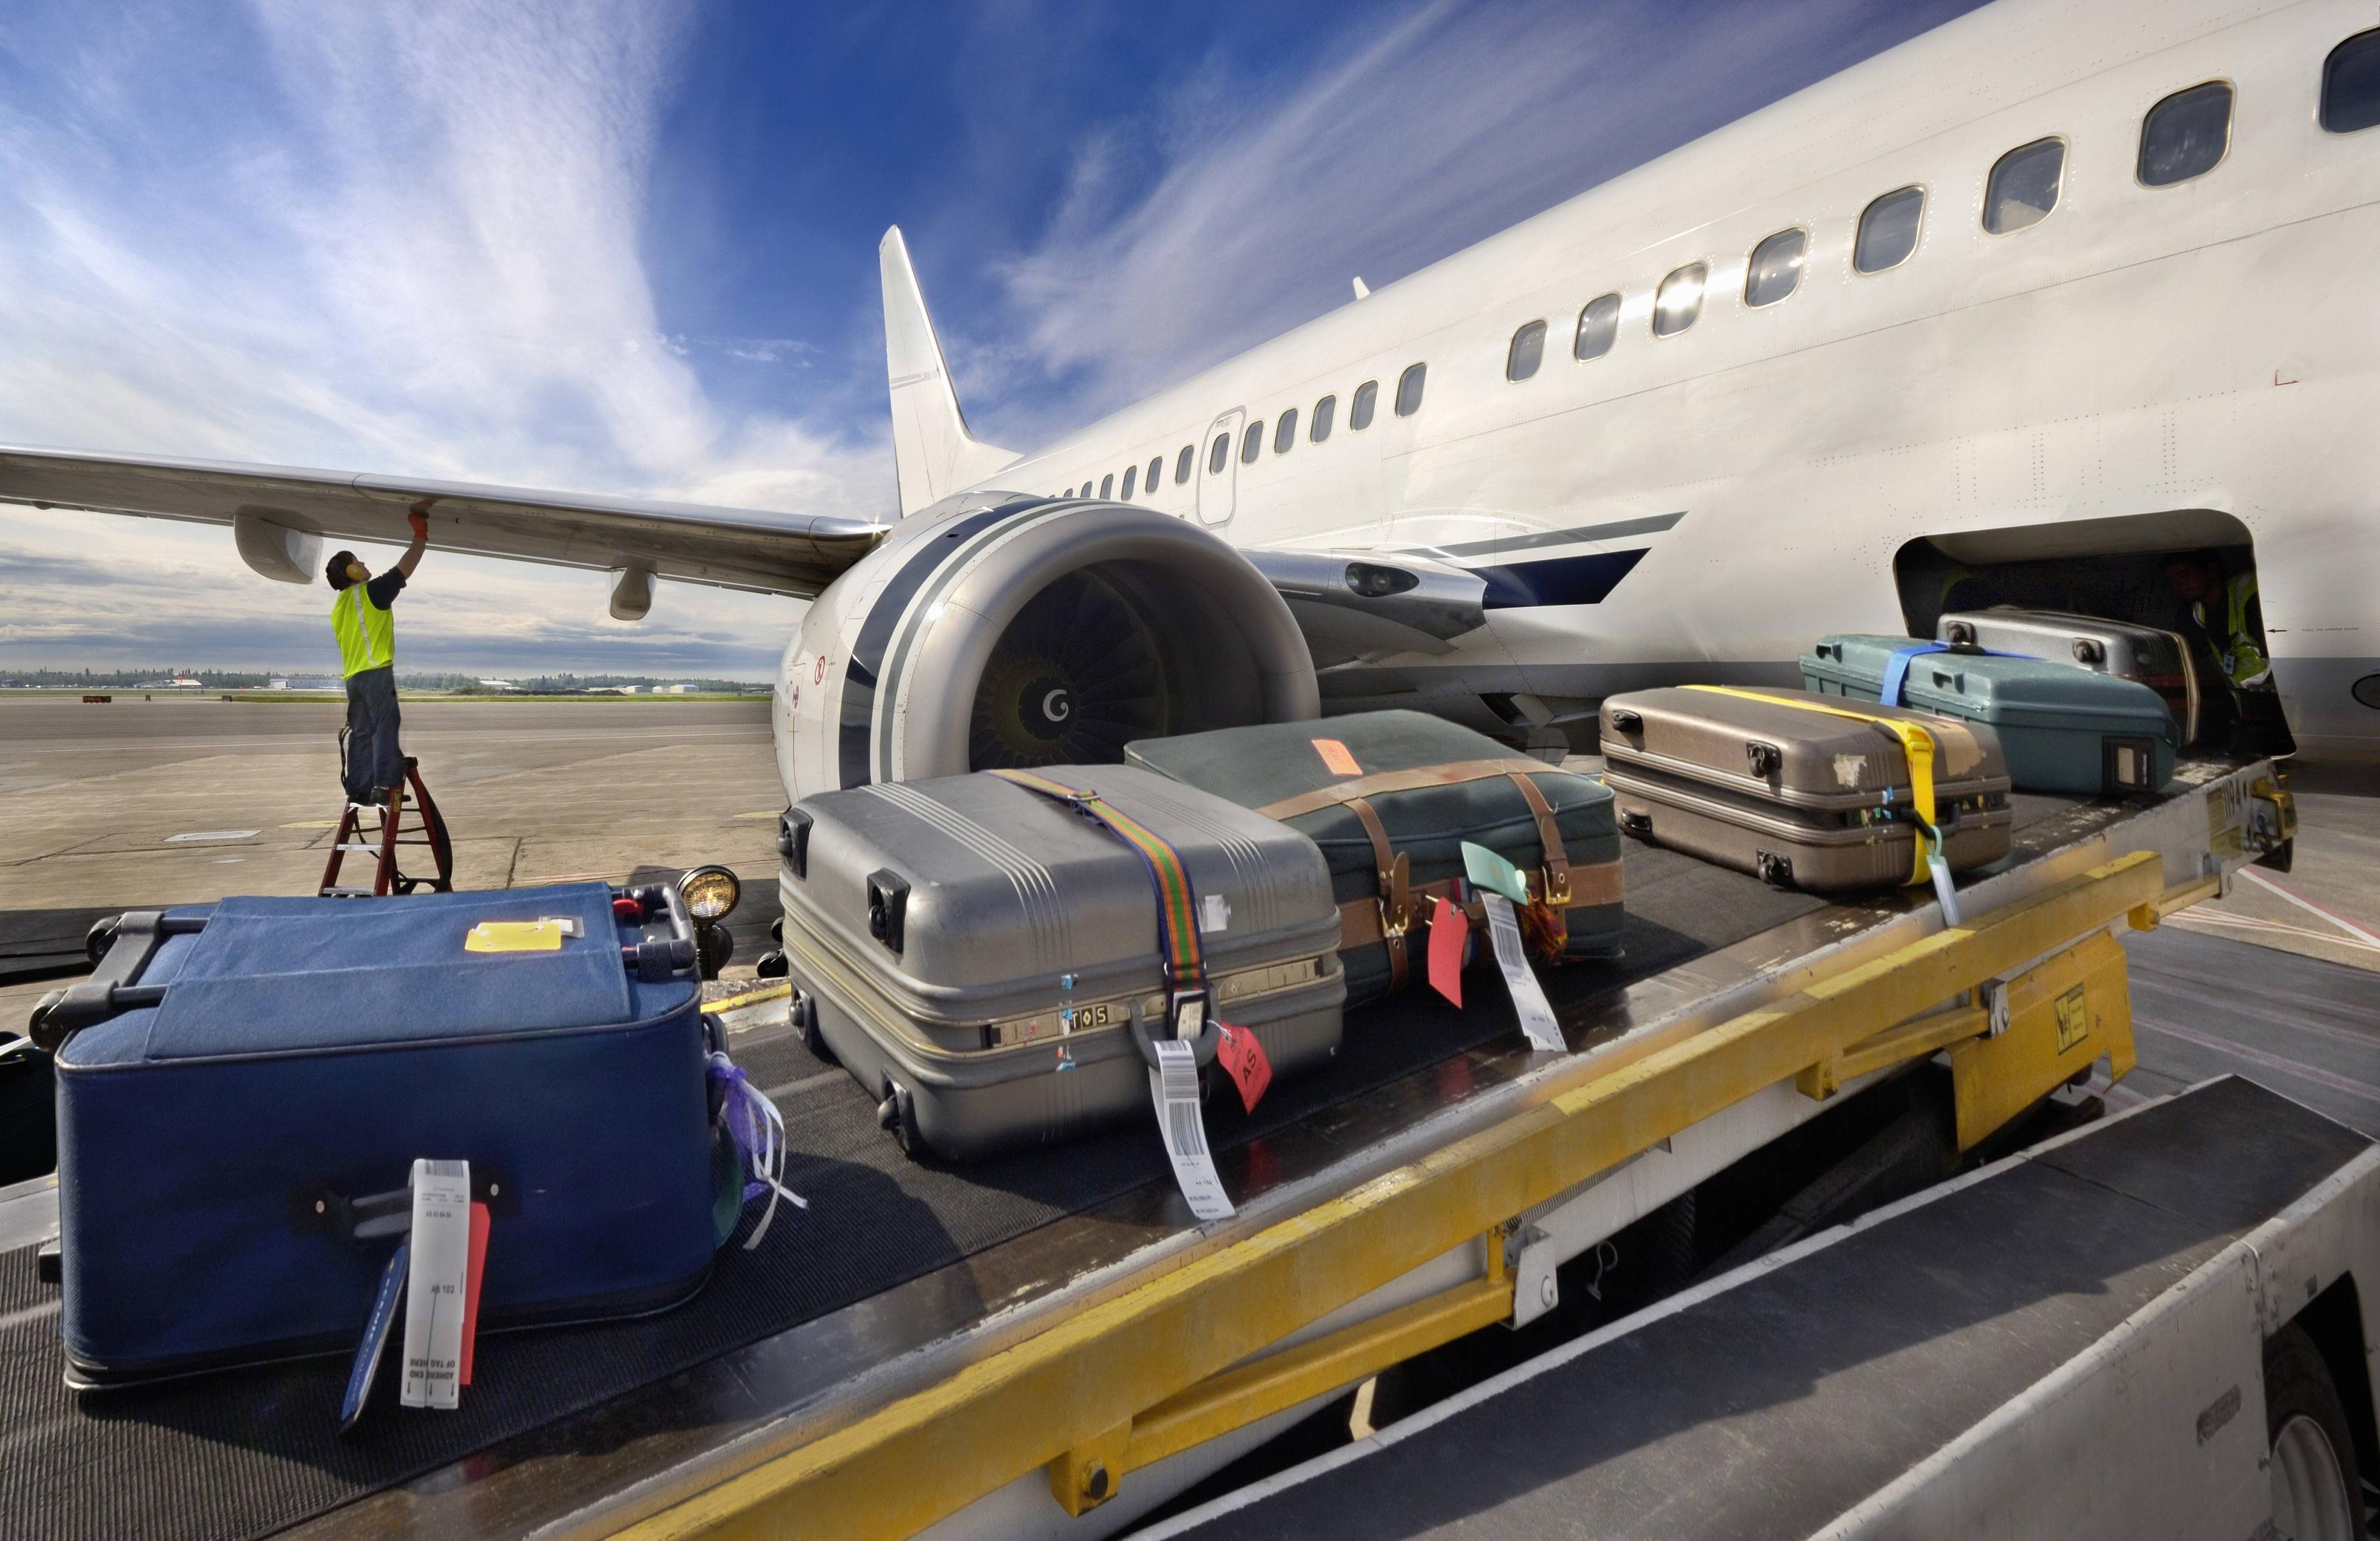baggagetruck: (64, 571, 2350, 1541)
